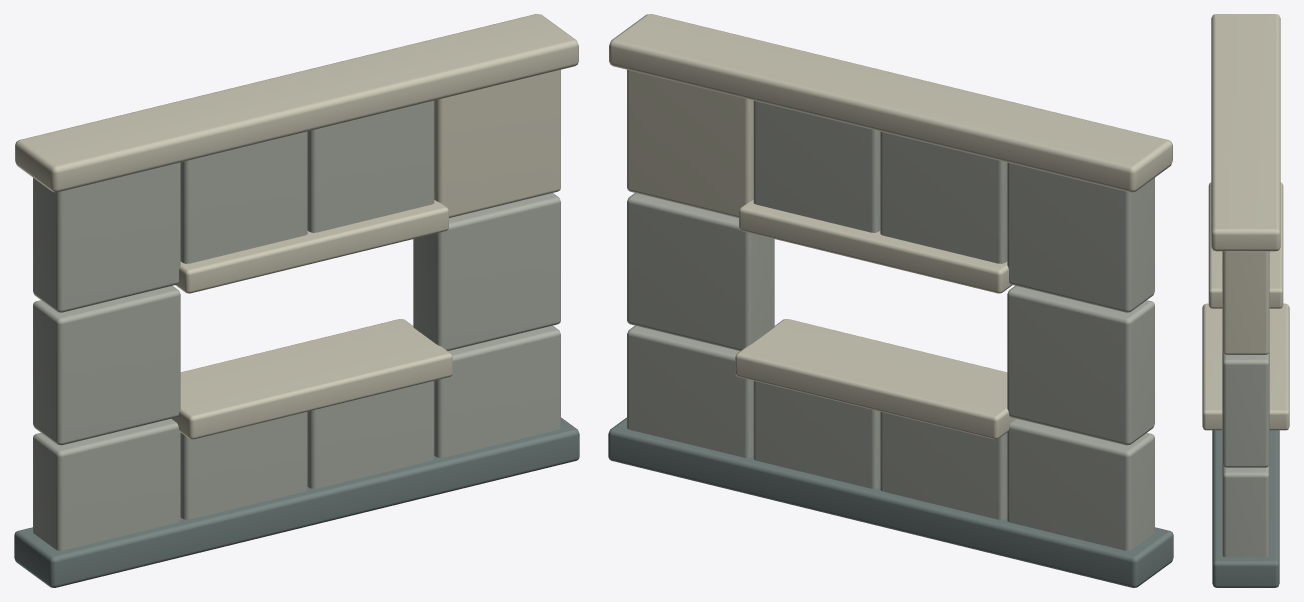
File: SM_Wall_Window_Stone_4x3.fbx
3 renders of one model, left to right at view 1: azimuth 30°, elevation 25°; view 2: azimuth 150°, elevation 25°; view 3: azimuth 270°, elevation 25°, orthographic. The views are drawn at different scales.
Visible parts, largest first — view 1: SM_Wall_Window_Stone_4x3; view 2: SM_Wall_Window_Stone_4x3; view 3: SM_Wall_Window_Stone_4x3.
Part boxes in pixels (bbox=[...]): SM_Wall_Window_Stone_4x3: bbox=[14, 14, 579, 587]; SM_Wall_Window_Stone_4x3: bbox=[608, 14, 1173, 587]; SM_Wall_Window_Stone_4x3: bbox=[1202, 14, 1289, 587].
Size of the model in its own units: 4.18 by 3.18 by 0.7.
